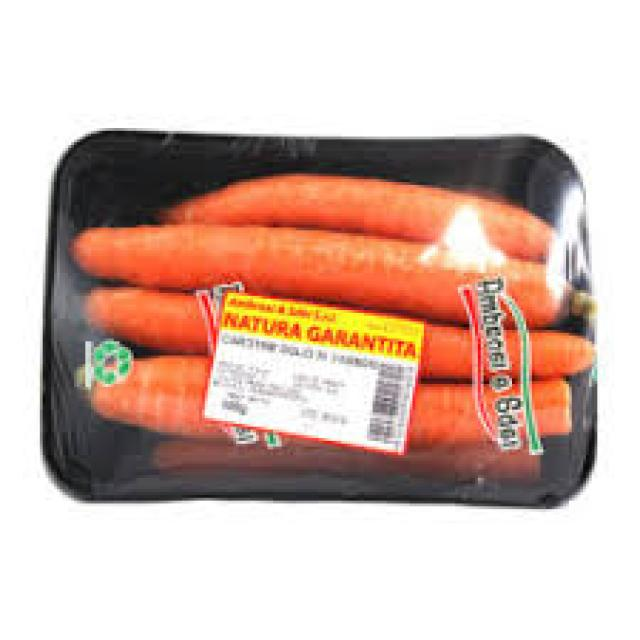Carrot: (77, 224, 570, 309)
